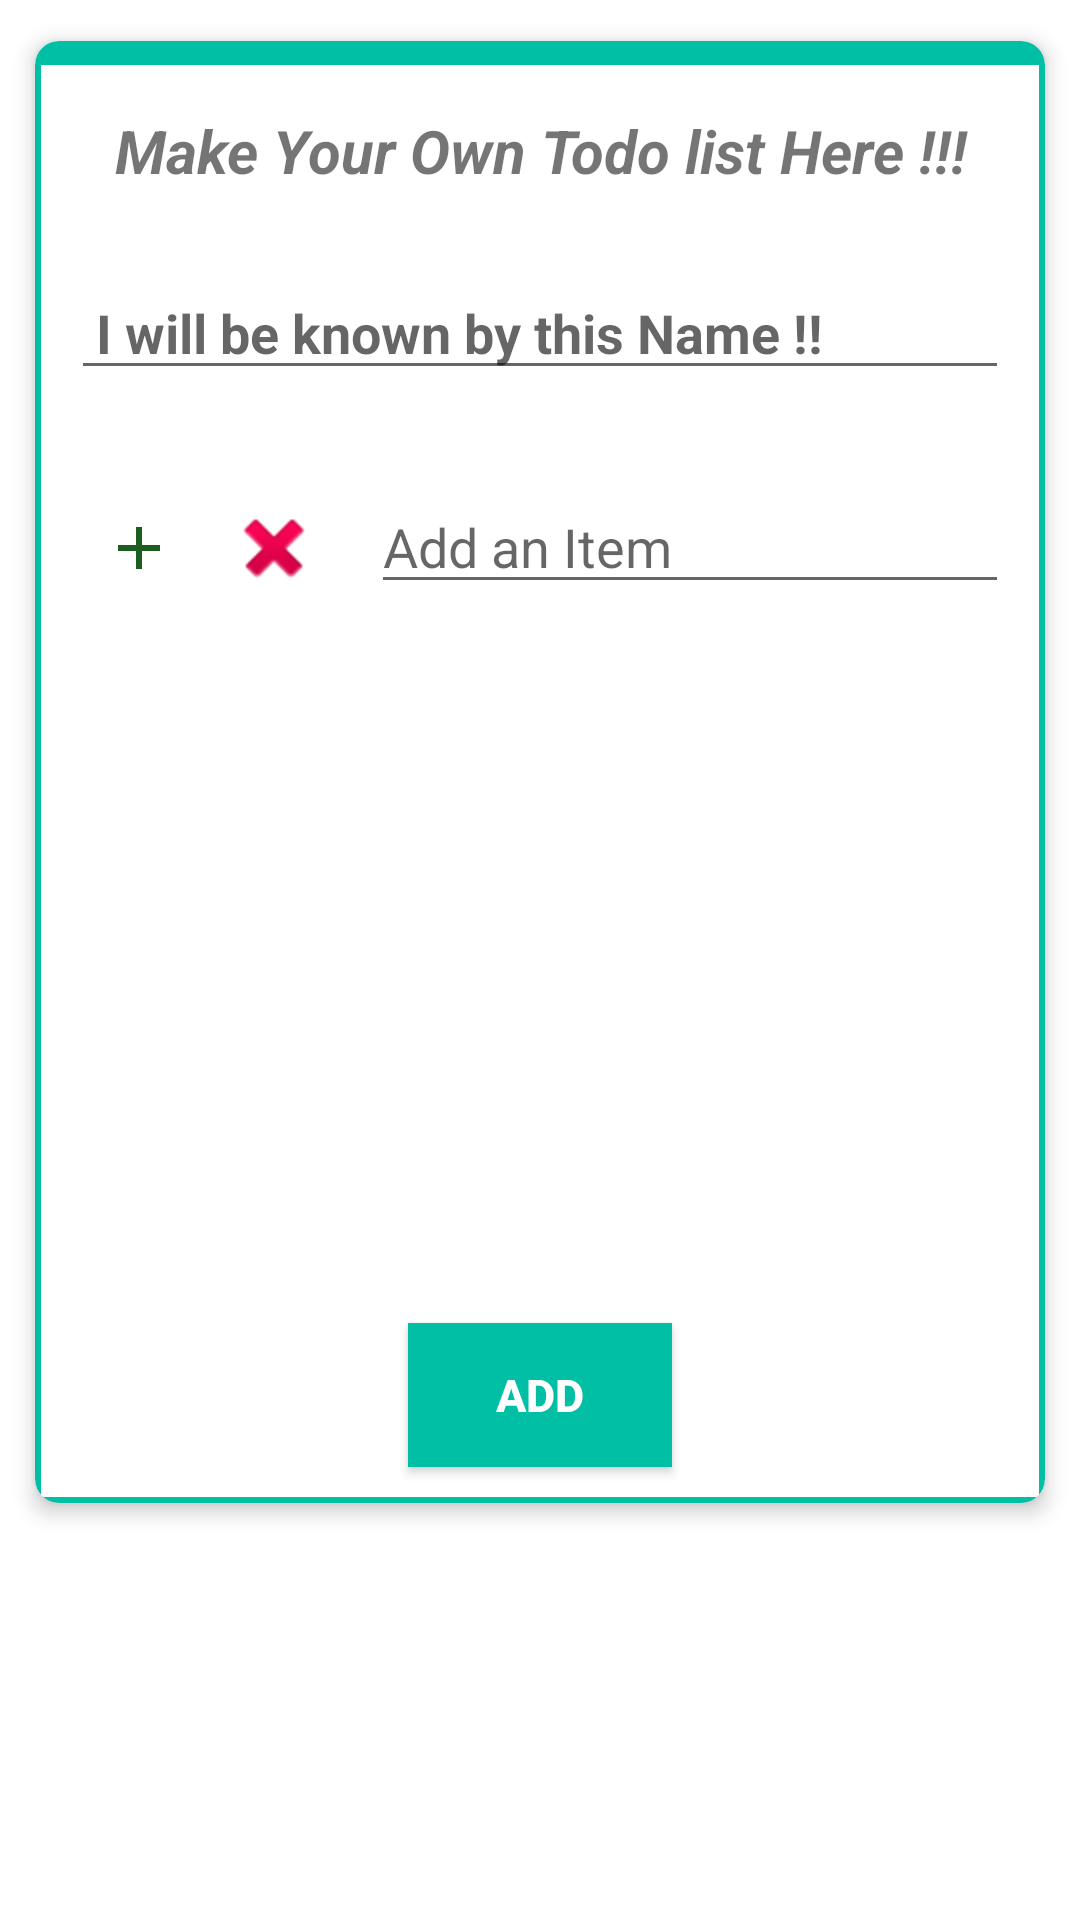

Where icons sit on this 1080×1920 app screen, as {"left": x1, "top": y1, "right": x2, "bottom": y2}:
add: {"left": 118, "top": 527, "right": 160, "bottom": 569}
delete: {"left": 243, "top": 519, "right": 305, "bottom": 578}
